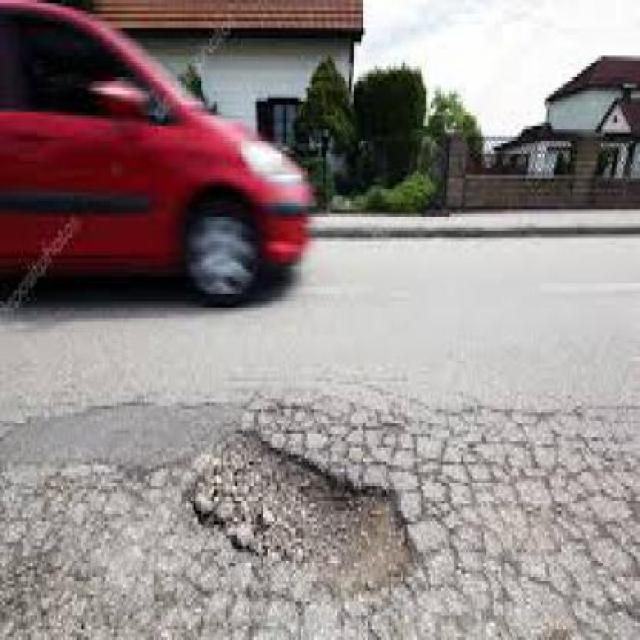pothole: (182, 417, 422, 606)
